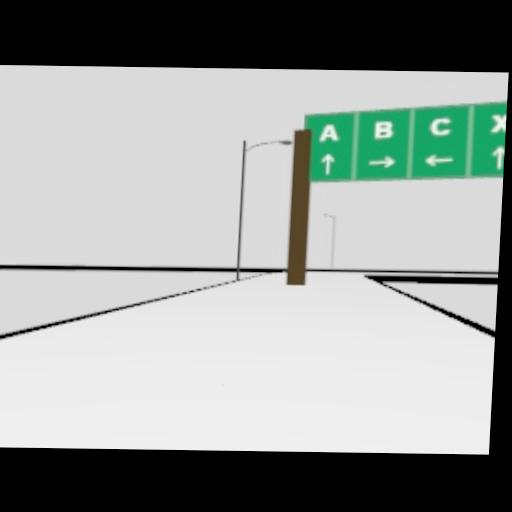A: (317, 122, 337, 142)
B: (373, 120, 392, 139)
C: (428, 115, 452, 134)
Left: (421, 154, 455, 167)
Right: (367, 155, 395, 167)
Straight: (492, 144, 505, 169), (321, 152, 334, 174)
X: (490, 113, 507, 132)
